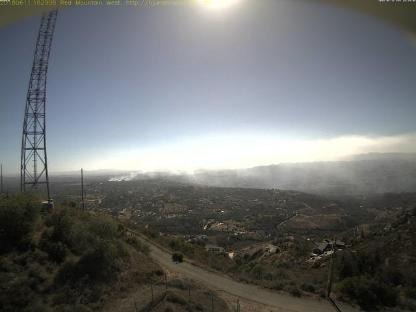smoke: (107, 154, 365, 194)
